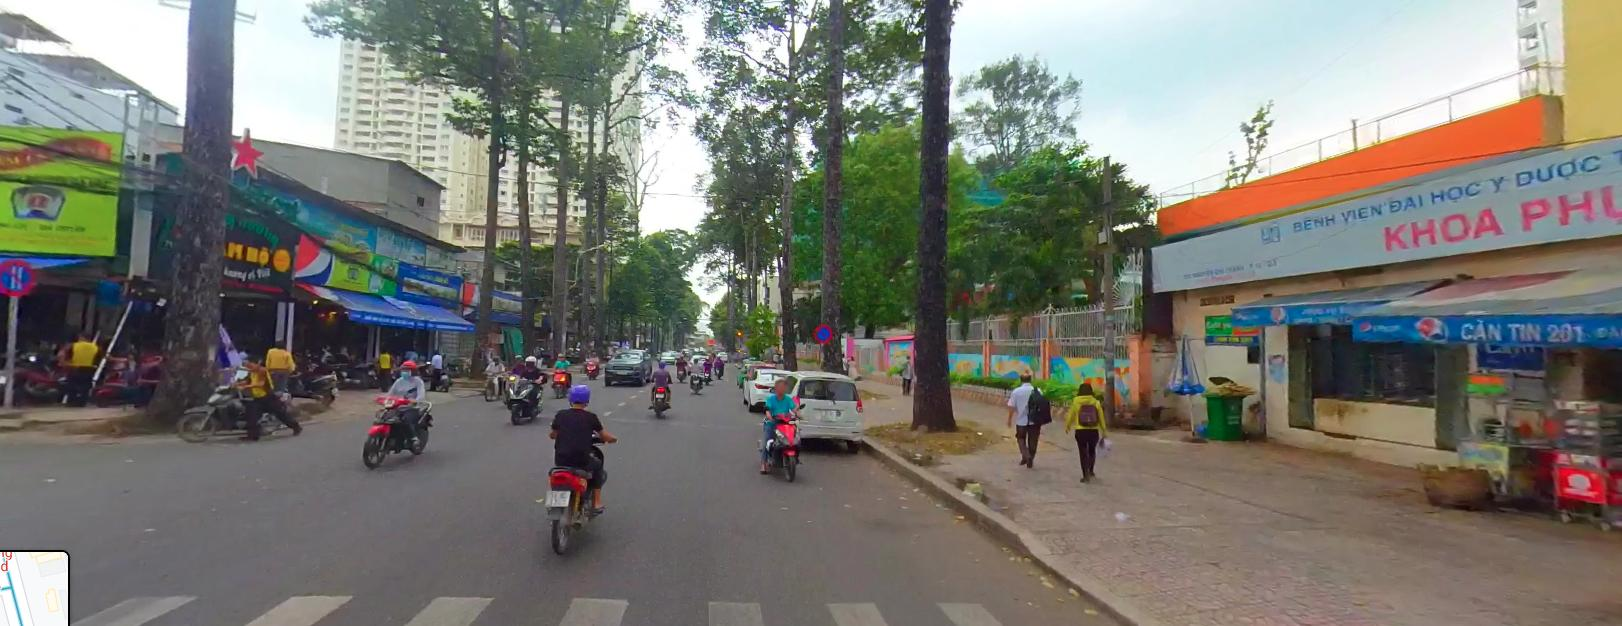Cam con lai: (0, 256, 32, 298)
Cam dung va do: (810, 322, 834, 342)
